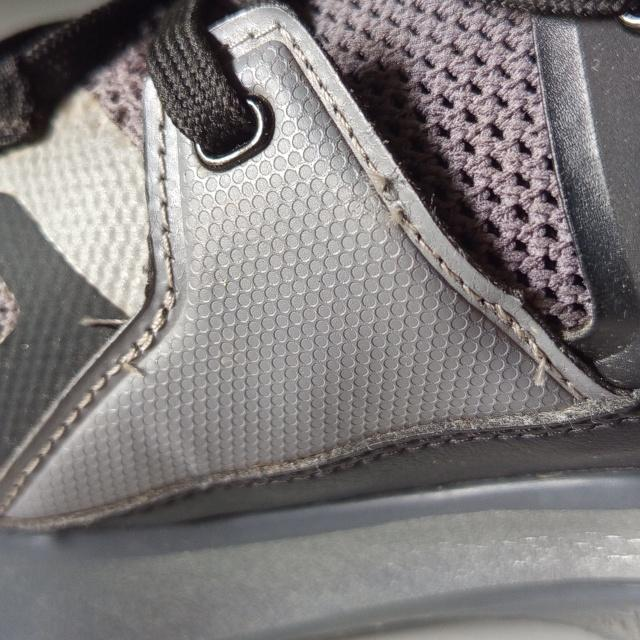broken-error: (361, 169, 411, 222)
